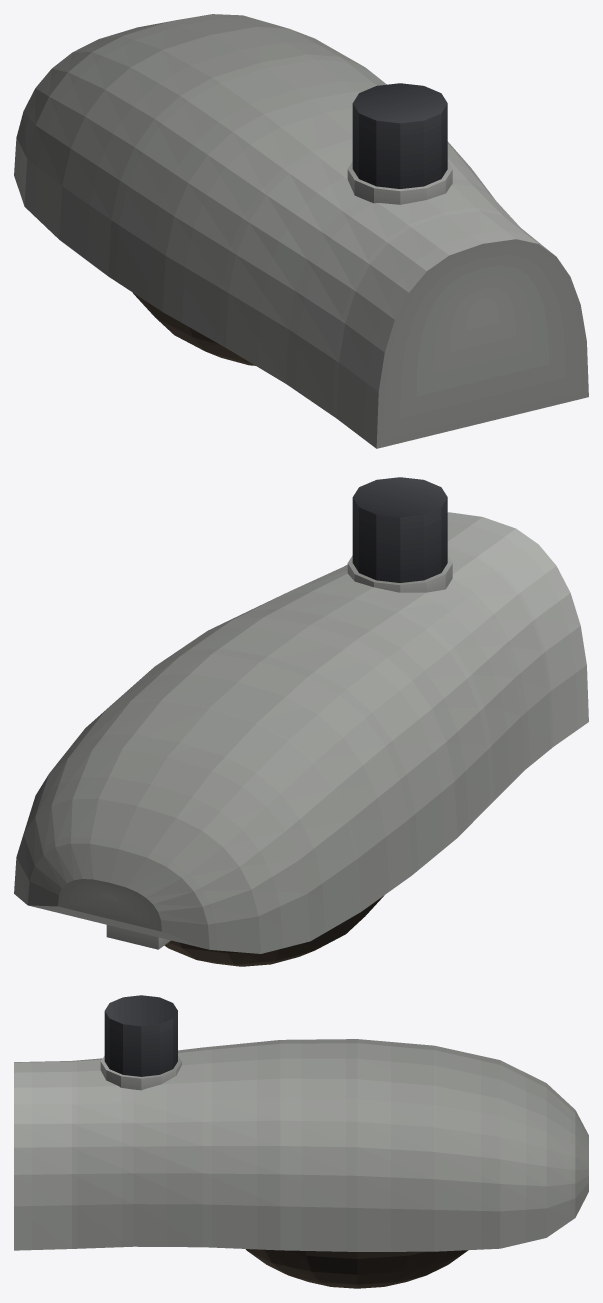
Rendered from streetlight_gem400r1.obj.
3 views of the same model, one above another, from view 1: azimuth 30°, elevation 25°; view 2: azimuth 150°, elevation 25°; view 3: azimuth 270°, elevation 25° (orthographic). The views are drawn at different scales.
Parts seen in each view (by area): view 1: fixture; view 2: fixture; view 3: fixture.
Boxes of the visible parts, x1,y1,x2,y2 form: fixture: (14,14,588,448); fixture: (14,477,588,966); fixture: (14,995,588,1288).
Bounding box in the file's own units: 0.4375 × 0.476 × 0.9312.
